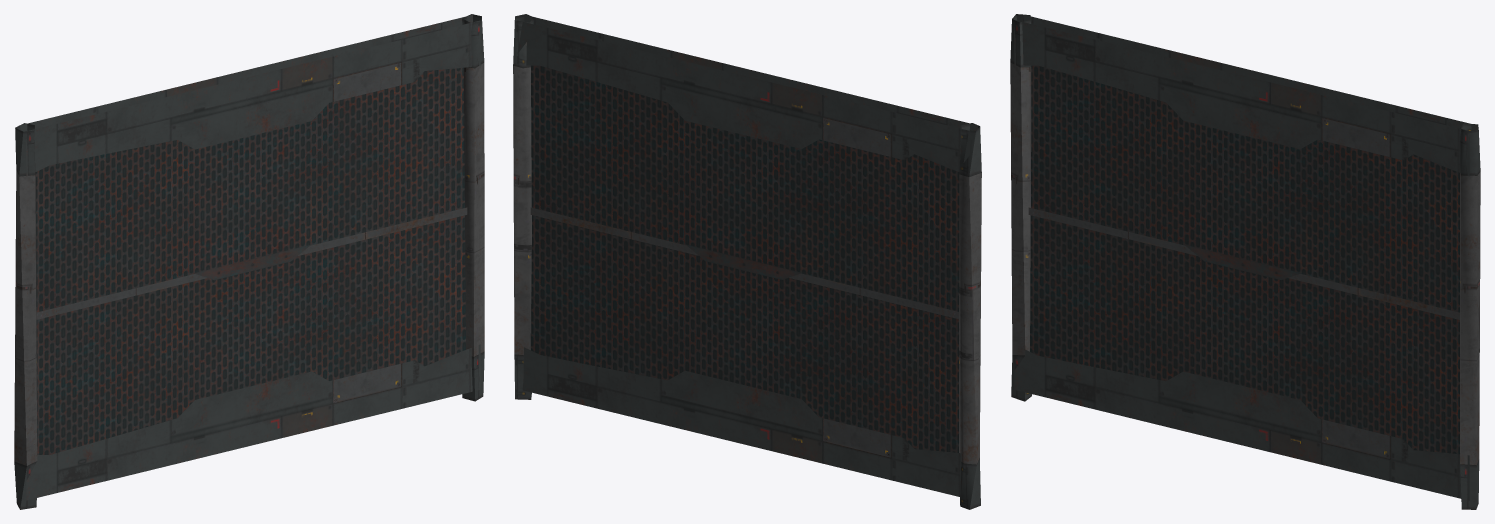
The model's file is ARC0910140.fbx.
3 renders of one model, left to right at view 1: azimuth 30°, elevation 25°; view 2: azimuth 150°, elevation 25°; view 3: azimuth 330°, elevation 25°, orthographic.
Parts seen in each view (by area): view 1: smARC0910140; view 2: smARC0910140; view 3: smARC0910140.
Part boxes in pixels (bbox=[...]): smARC0910140: bbox=[14, 14, 484, 509]; smARC0910140: bbox=[513, 14, 981, 509]; smARC0910140: bbox=[1010, 14, 1480, 509].
Size of the model in its own units: 396 by 308 by 16.57.
1 material, 1 textured.
